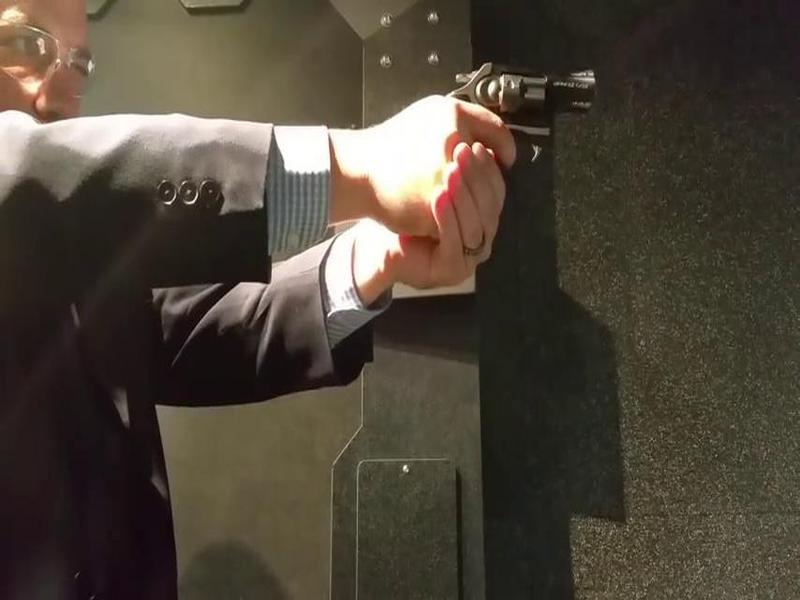Revolver: (446, 52, 607, 168)
